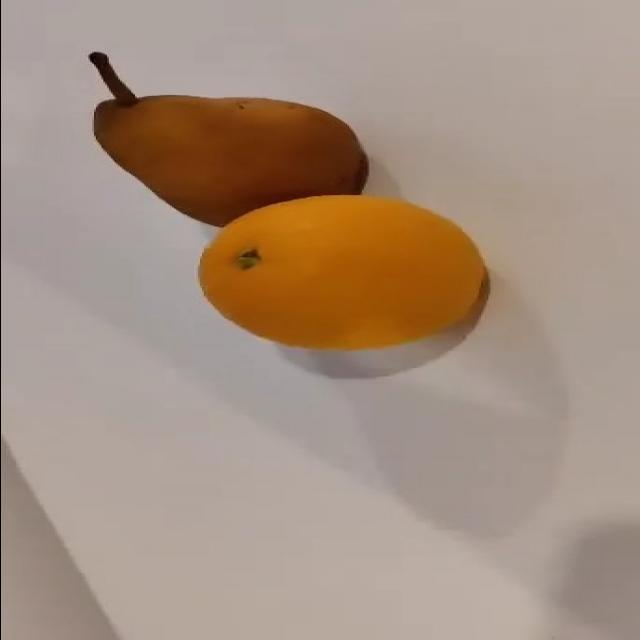Orange: (197, 193, 490, 358)
